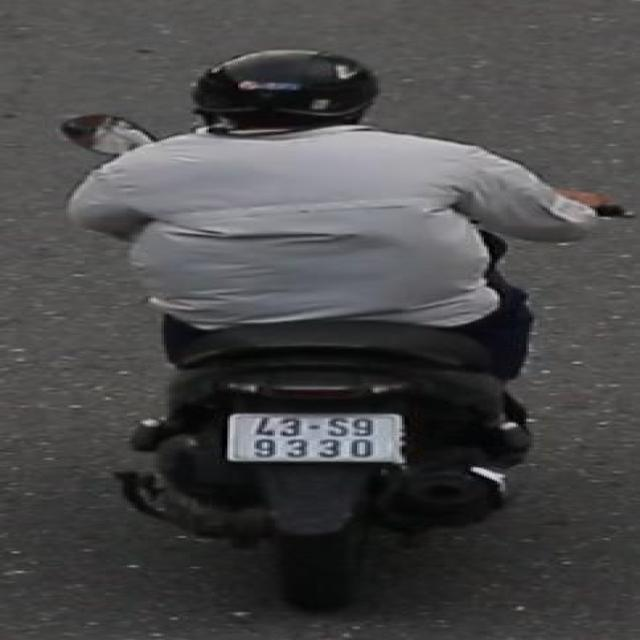LP: (221, 406, 414, 466)
helmet: (184, 44, 387, 142)
